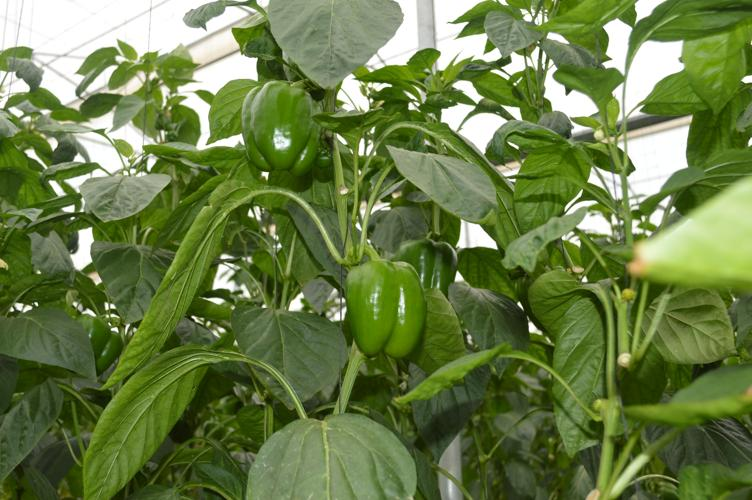BellPepper: (232, 78, 331, 188), (340, 250, 422, 362)
